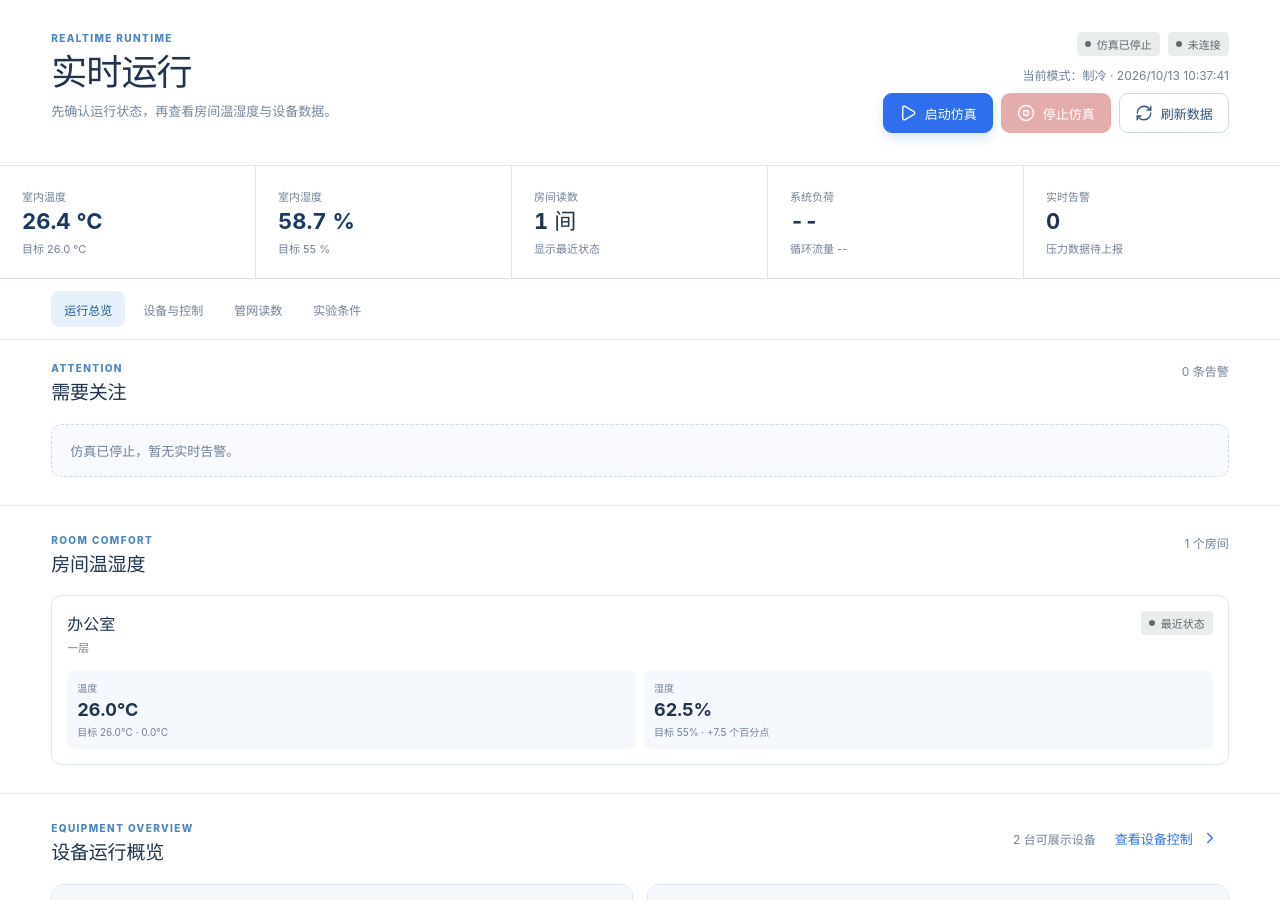
Test: runtime device controls › renders numeric controls with range metadata
Click the tab with id "runtime-tab-devices" at x=173, y=309, box [130,291,216,327]
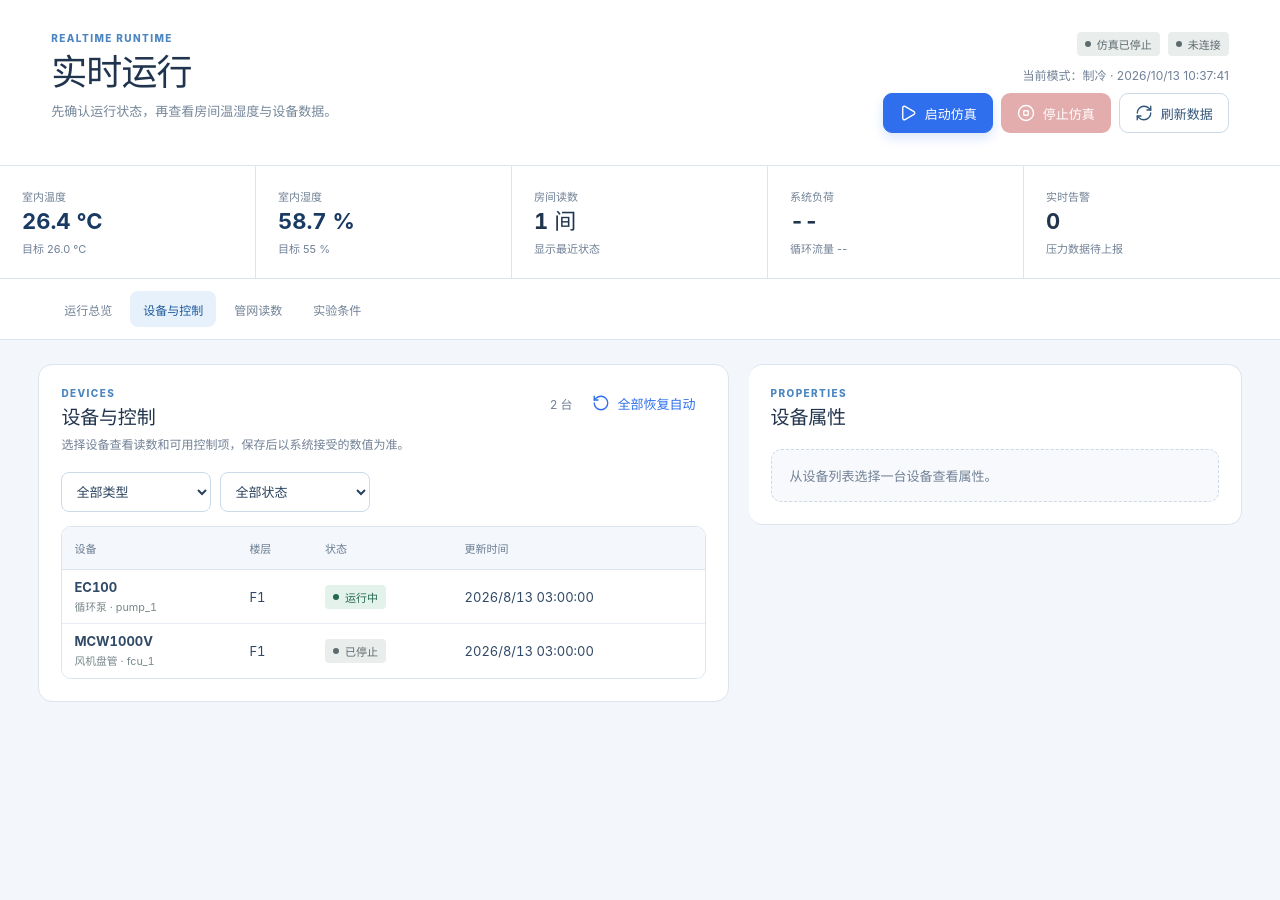
Check: the row "EC100 循环泵 · pump_1 F1 运行中 2026/8/13 03:00:00" is shown
Click the row "EC100 循环泵 · pump_1 F1 运行中 2026/8/13 03:00:00" at x=384, y=597, box [62,570,705,624]
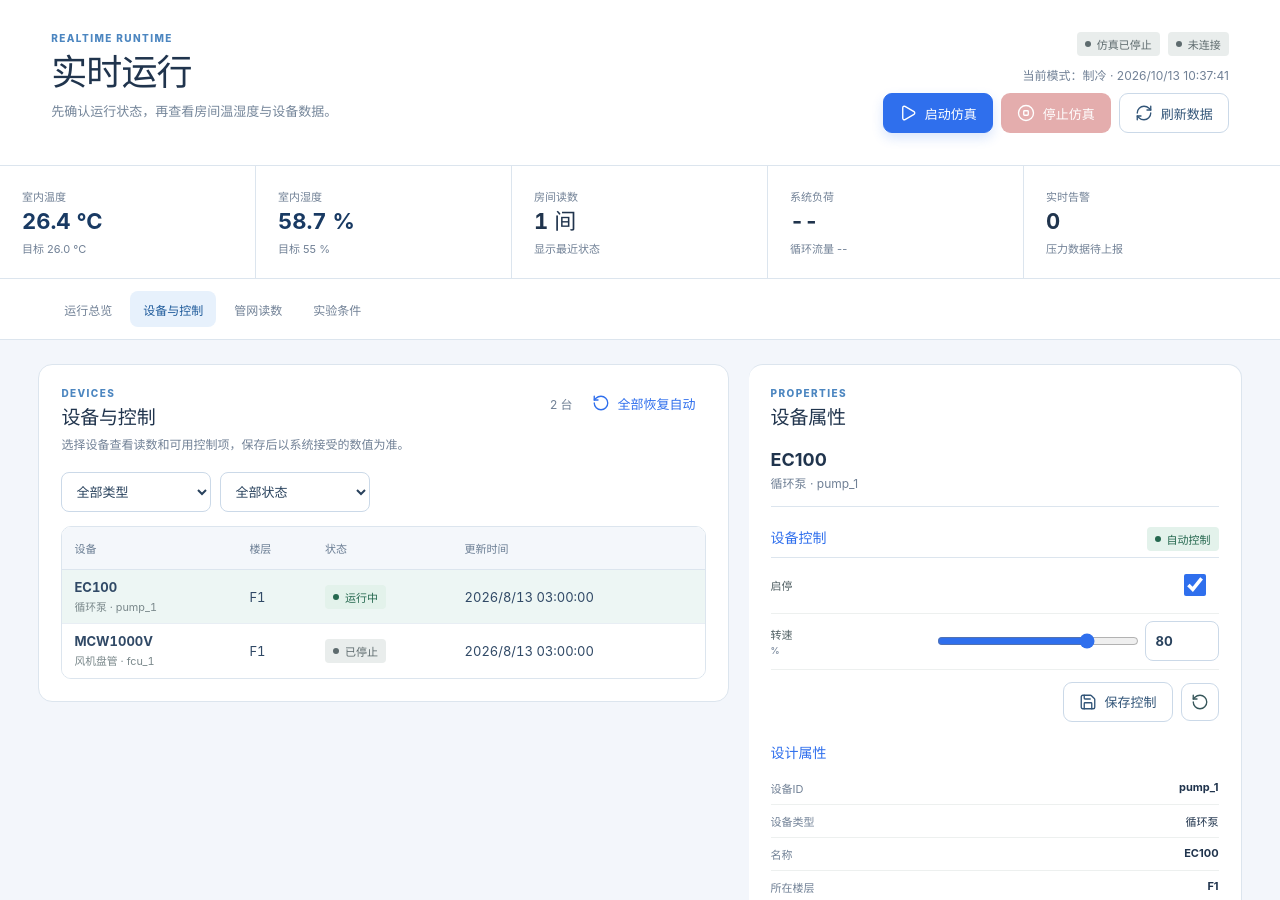
Check: the slider labelled "转速 %" is shown, box [937,621,1139,661]
Check: the number field holds "80", box [1145,621,1219,661]
